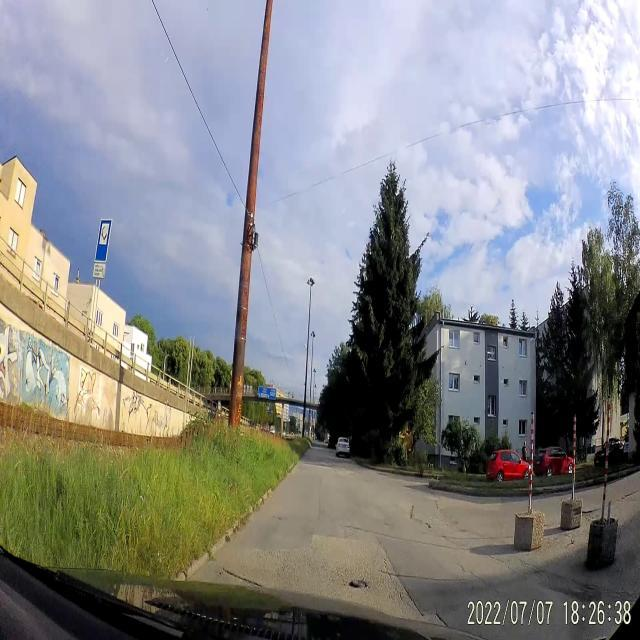Pothole: (346, 570, 367, 596)
